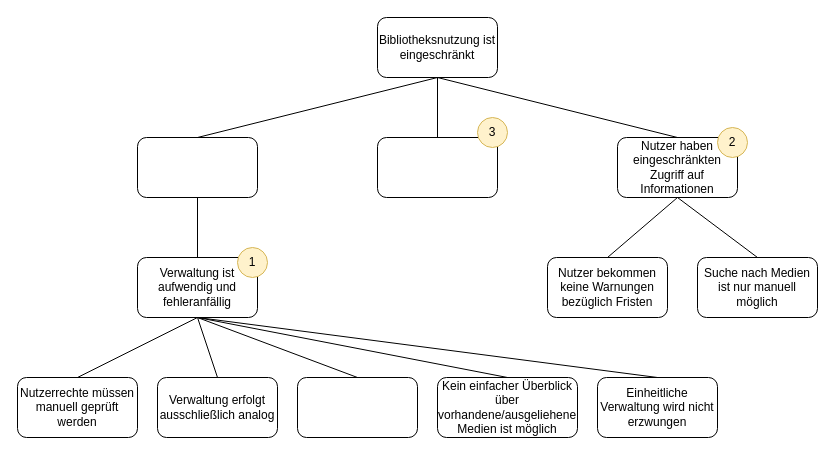
Image size: 835x455. Some labels were removed from this diagram. Each missing label, with the centre of its shape:
Elektronische Medien können nicht ausgeliehen werden: the point at 437,167
Verwaltung ist über viele Personen verteilt: the point at 357,407
Überblick in der Verwalrung geht verloren: the point at 197,167
